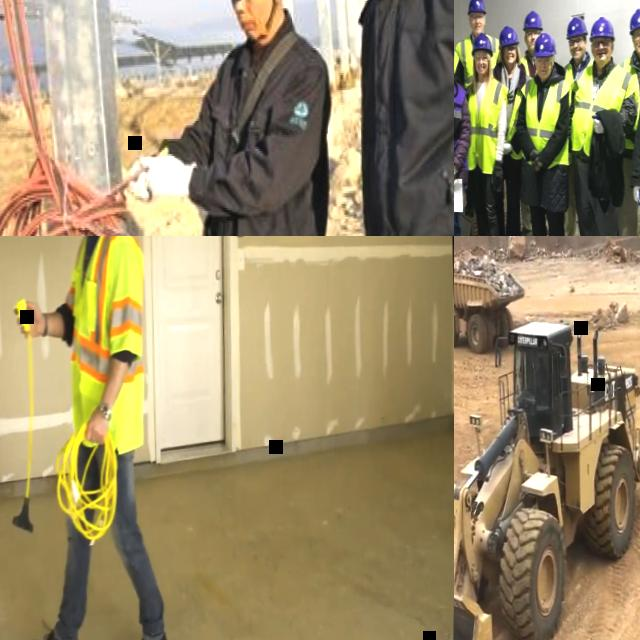Hardhat: (588, 15, 615, 42), (533, 32, 557, 58), (471, 32, 494, 56), (565, 16, 589, 38), (497, 24, 519, 47), (522, 9, 543, 32), (627, 6, 640, 34), (466, 0, 487, 14)
NO-Mask: (240, 10, 269, 40), (593, 50, 610, 64), (536, 65, 551, 78), (469, 21, 484, 34), (571, 48, 585, 60), (504, 52, 517, 64), (475, 62, 488, 74), (526, 38, 537, 50), (636, 42, 640, 53)
NO-Safety Vest: (206, 48, 329, 236), (360, 0, 454, 236)
Person: (3, 236, 174, 640), (114, 0, 342, 236), (326, 0, 454, 236), (560, 14, 640, 236), (510, 31, 578, 236), (454, 0, 509, 236), (460, 31, 514, 236), (552, 12, 598, 236), (490, 23, 535, 236), (512, 10, 553, 236), (606, 3, 640, 236), (454, 36, 478, 236), (534, 354, 550, 400)
Safety Vest: (62, 236, 149, 398), (568, 61, 640, 159), (519, 75, 573, 172), (465, 78, 511, 176), (503, 71, 536, 161), (614, 52, 640, 150), (454, 32, 501, 85), (563, 56, 595, 105), (454, 80, 470, 171), (520, 55, 538, 78)
vehicle: (454, 305, 640, 640), (454, 247, 528, 358)
